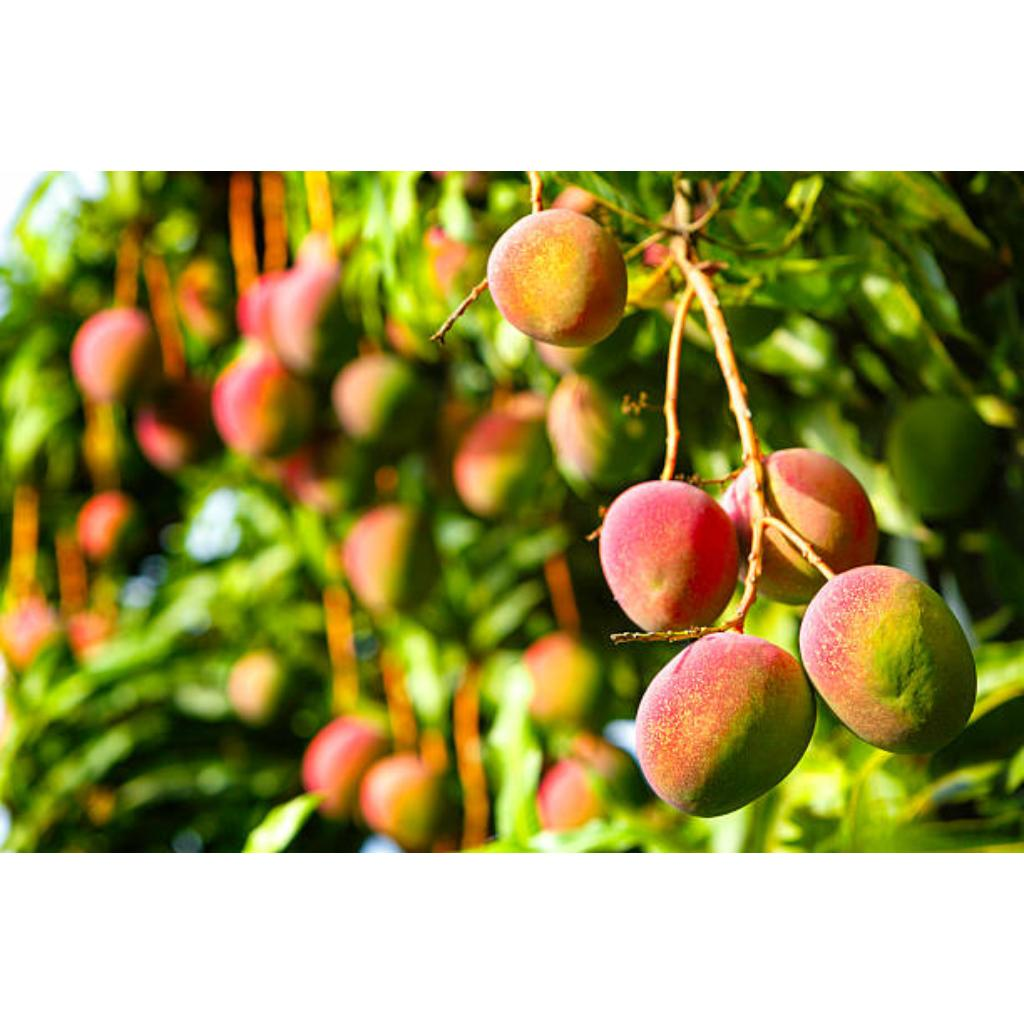mango: (636, 631, 816, 816), (800, 567, 972, 754), (721, 449, 878, 605), (600, 481, 740, 632), (486, 213, 628, 347)
